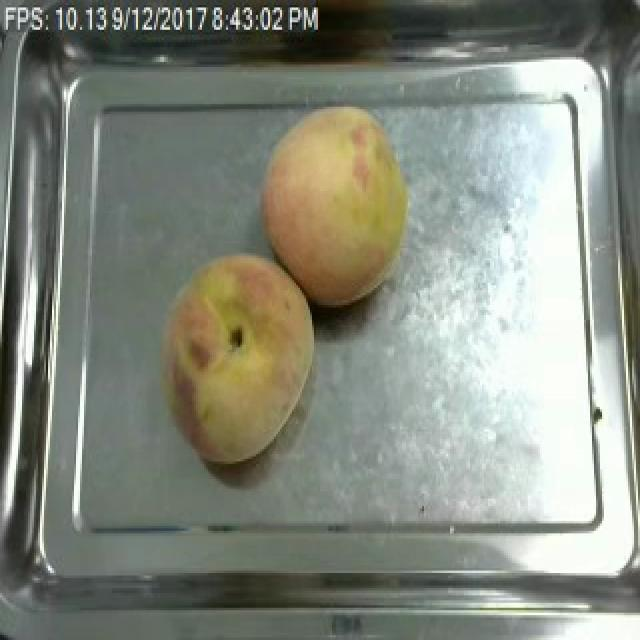Fruit: (150, 243, 322, 469), (252, 99, 418, 313)
